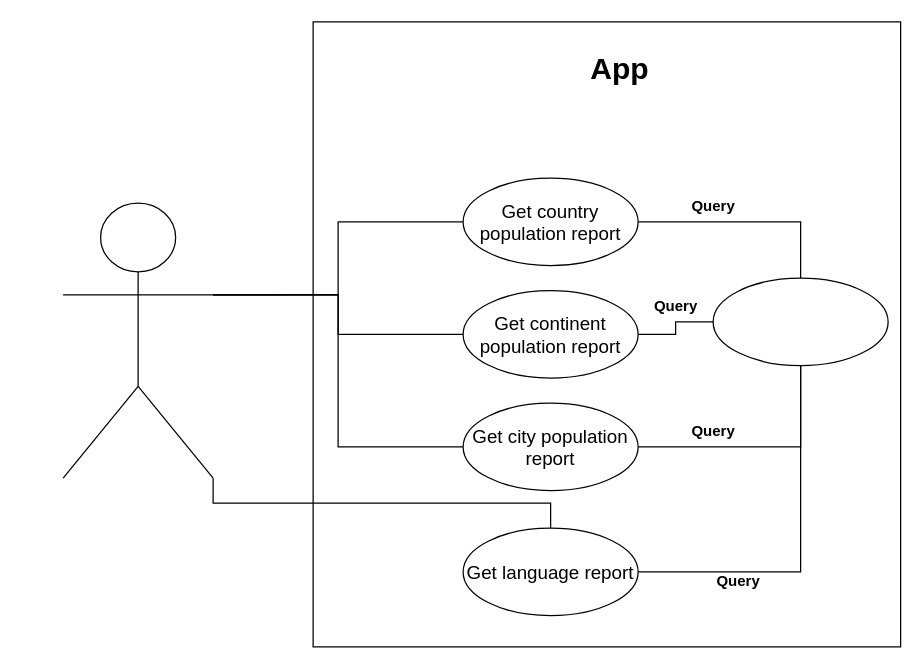
Image size: 923x669. Some labels were removed from this diagram. The shapes that lost their labels are listed below. From the top down, each one's box as (x1, y1, x2, y2) in pixels, then its label:
(62, 202, 213, 478): Market Researcher
(712, 277, 888, 366): Database
